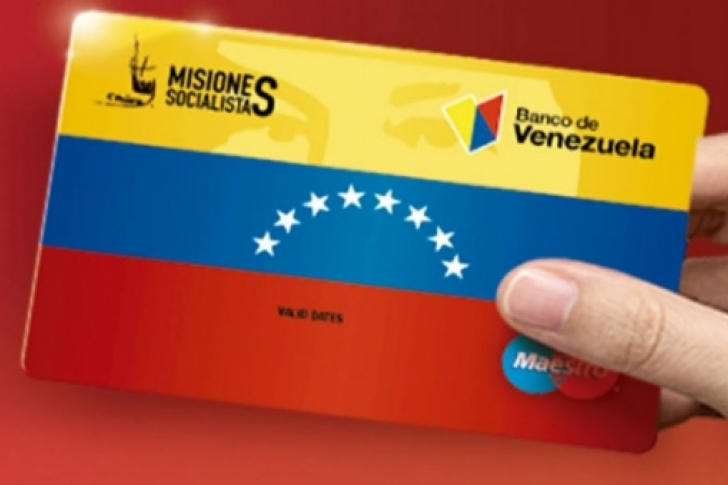tarjeta: (18, 9, 710, 453)
